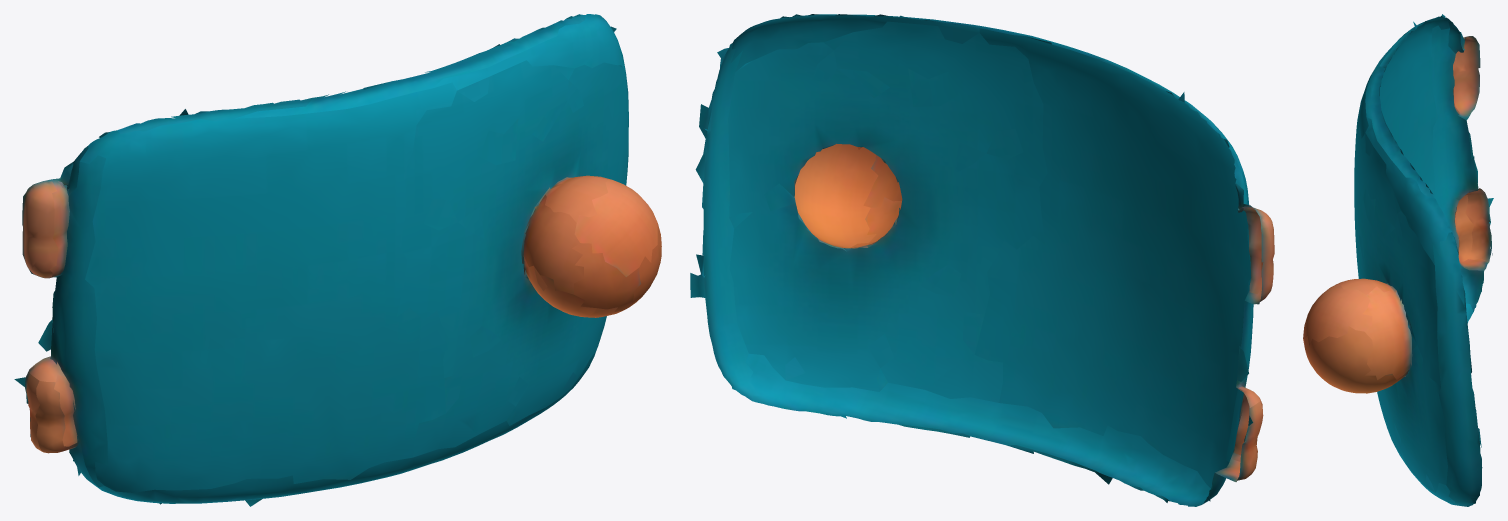
Rendered from bottom_door.glb.
The picture shows the model from 3 angles, left to right: view 1: azimuth 30°, elevation 25°; view 2: azimuth 150°, elevation 25°; view 3: azimuth 270°, elevation 25°; orthographic projection. The views are drawn at different scales.
Visible parts, largest first — view 1: geometry_0; view 2: geometry_0; view 3: geometry_0.
Boxes of the visible parts, x1,y1,x2,y2 form: geometry_0: (14,14,661,506); geometry_0: (690,14,1274,506); geometry_0: (1303,14,1493,506).
Size of the model in its own units: 0.3096 by 0.2082 by 0.1057.
Materials: 1 (1 with a texture image).
